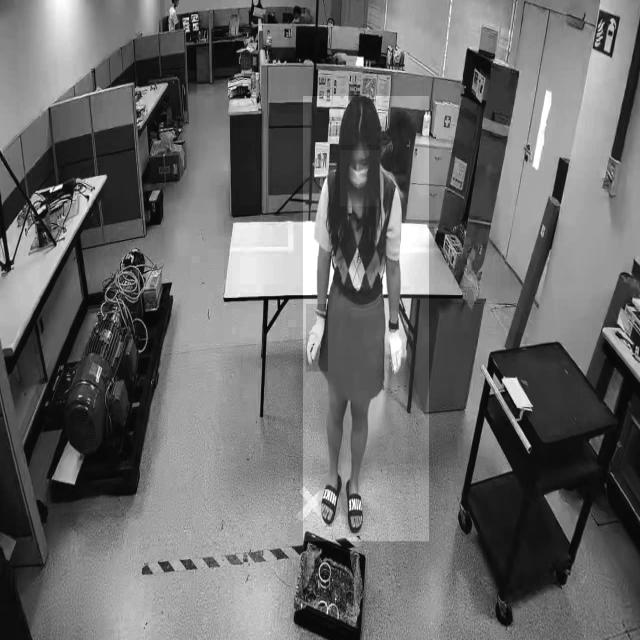face_mask: (340, 150, 380, 206)
hand_glove: (306, 304, 328, 372), (385, 311, 408, 372)
head_nohelmet: (340, 94, 382, 146)
person: (303, 96, 429, 542)
